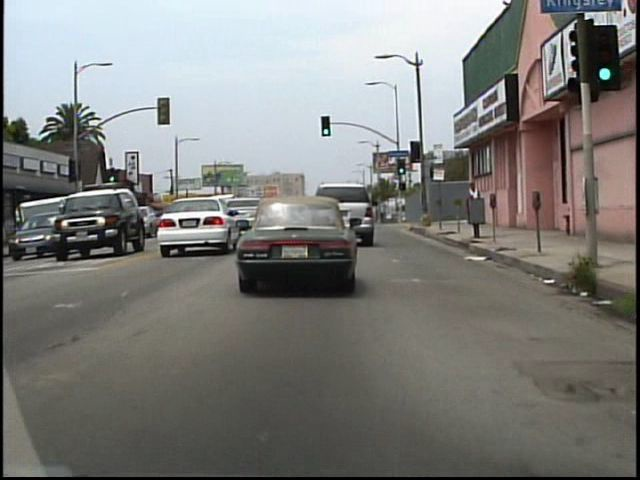person: (465, 183, 483, 231)
